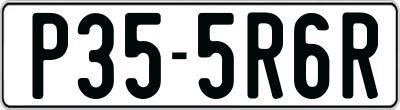3: (75, 10, 112, 102)
5: (197, 13, 238, 104), (125, 12, 162, 98)
6: (294, 12, 330, 102)
P: (32, 10, 69, 98)
R: (339, 11, 381, 103), (244, 11, 282, 104)
